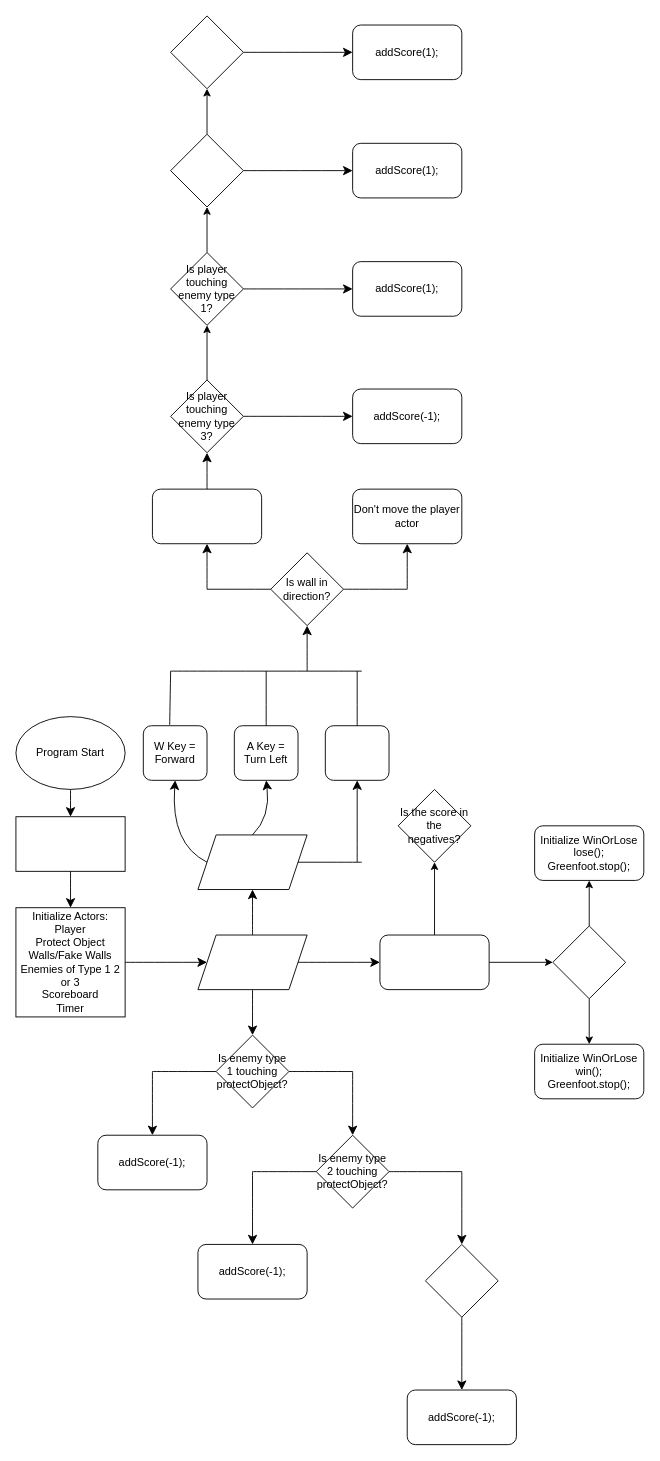
Some shapes in this 660 by 1461 pixel diagram are drawn without their labels. Here are the shapes that lost their labels. From the top down, the centre of each, then its label:
At point 206,52: "Is player touching a fake wall?".
At point 206,170: "Is player touching enemy type 2?".
At point 207,516: "Move the player actor".
At point 356,752: "D Key = Right".
At point 70,843: "Initialize World minutes = 1;".
At point 252,862: "User moves".
At point 252,962: "Frame x".
At point 434,962: "minutes-- seconds-- frames--".
At point 589,962: "Has the timer reached zero?".
At point 461,1280: "Is Wall fake = true touching protectObject?".
